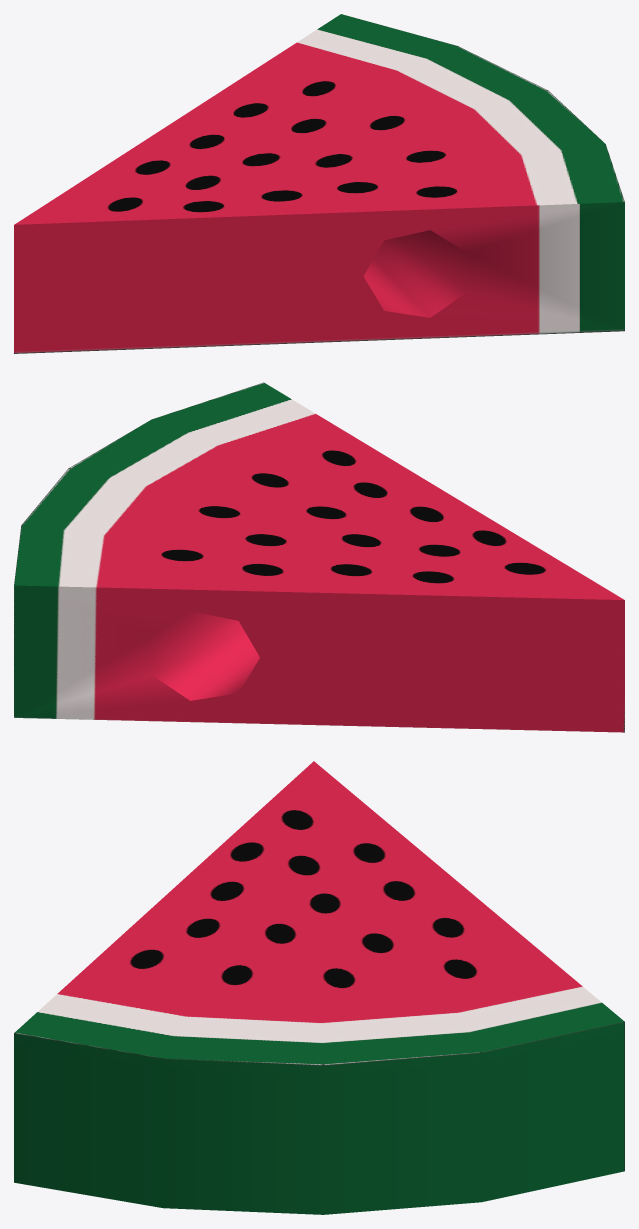
File: Karpuz.fbx
The picture shows the model from 3 angles, top to bottom: view 1: azimuth 30°, elevation 25°; view 2: azimuth 150°, elevation 25°; view 3: azimuth 270°, elevation 25°; orthographic projection. The views are drawn at different scales.
Visible parts, largest first — view 1: Cylinder.003; view 2: Cylinder.003; view 3: Cylinder.003.
Part boxes in pixels (x1,y1,x2,y2): Cylinder.003: (14, 14, 624, 353); Cylinder.003: (14, 382, 624, 732); Cylinder.003: (14, 761, 624, 1214).
Size of the model in its own units: 25.03 by 5.73 by 21.24.
